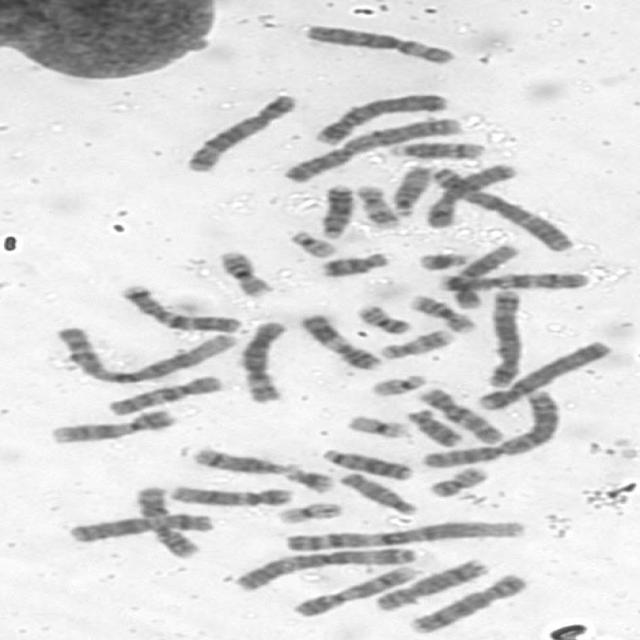A1: (48, 322, 239, 385), (276, 515, 530, 554)
A2: (277, 113, 465, 184), (413, 386, 565, 470)
A3: (424, 161, 579, 253), (228, 543, 423, 592)
B4: (470, 336, 616, 411), (308, 88, 452, 147)
B5: (178, 89, 300, 174), (480, 284, 527, 388)
C10: (412, 384, 507, 446), (100, 371, 227, 417)
C11: (126, 481, 202, 558), (294, 309, 388, 371)
C12: (444, 240, 522, 310), (163, 480, 296, 508)
C6: (296, 19, 461, 66), (232, 316, 292, 404)
C7: (114, 280, 247, 334), (431, 266, 592, 292)
C8: (404, 570, 531, 636), (366, 554, 490, 612)
C9: (286, 561, 422, 619), (44, 404, 180, 445)
D13: (315, 444, 417, 481), (312, 180, 358, 239)
D14: (186, 444, 292, 476), (383, 136, 489, 161)
D15: (334, 468, 421, 516), (386, 160, 435, 217)
E16: (212, 245, 277, 298), (404, 290, 479, 334)
E17: (374, 325, 458, 361), (351, 181, 404, 229)
E18: (400, 404, 468, 447), (314, 248, 394, 278)
F19: (341, 410, 413, 440), (271, 498, 345, 525)
F20: (424, 462, 493, 498), (350, 299, 414, 335)
G21: (279, 461, 337, 494), (412, 247, 473, 272)
G22: (283, 226, 341, 258), (364, 370, 430, 397)
X: (418, 160, 520, 228), (62, 508, 218, 545)
